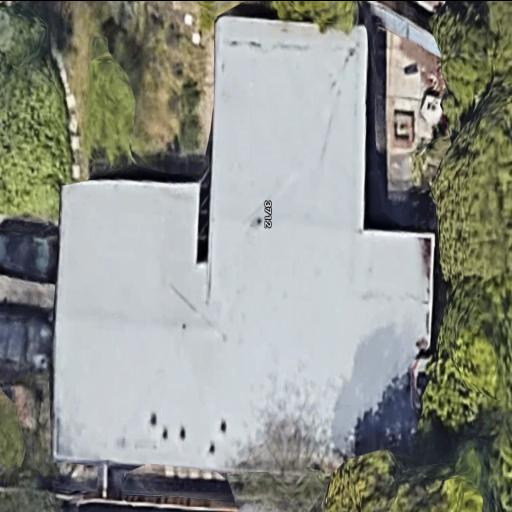Flat Roof: (54, 14, 435, 480)
